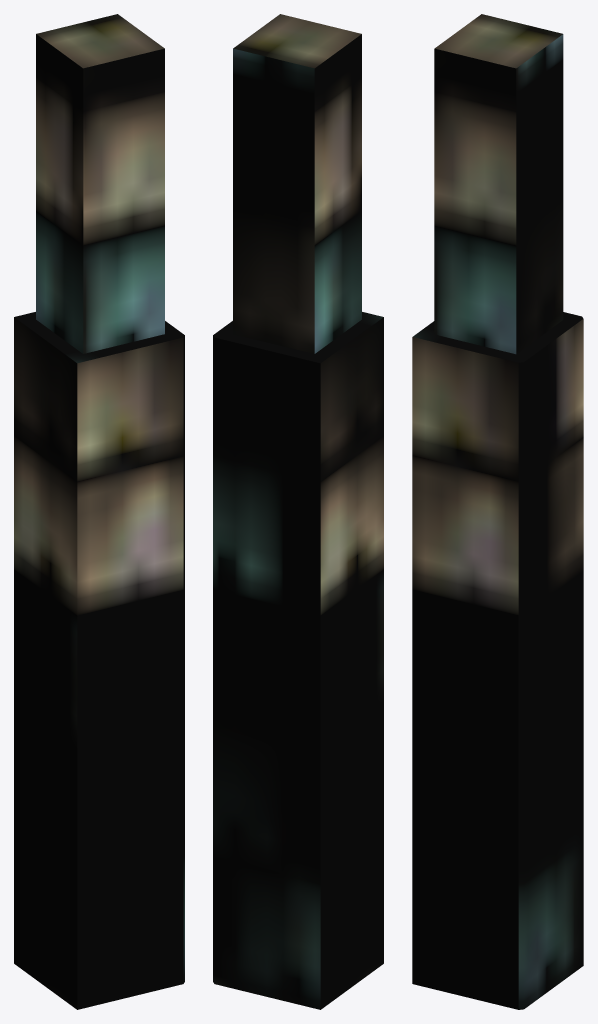
The model's file is Building2.fbx.
The picture shows the model from 3 angles, left to right: view 1: azimuth 30°, elevation 25°; view 2: azimuth 150°, elevation 25°; view 3: azimuth 330°, elevation 25°; orthographic projection.
Parts seen in each view (by area): view 1: Cube.002; view 2: Cube.002; view 3: Cube.002.
Part boxes in pixels (left/top/right/bottom): Cube.002: left=14, top=14, right=184, bottom=1009; Cube.002: left=213, top=14, right=383, bottom=1009; Cube.002: left=412, top=14, right=583, bottom=1009.
Bounding box in the file's own units: 1397 × 11354 × 1397.
